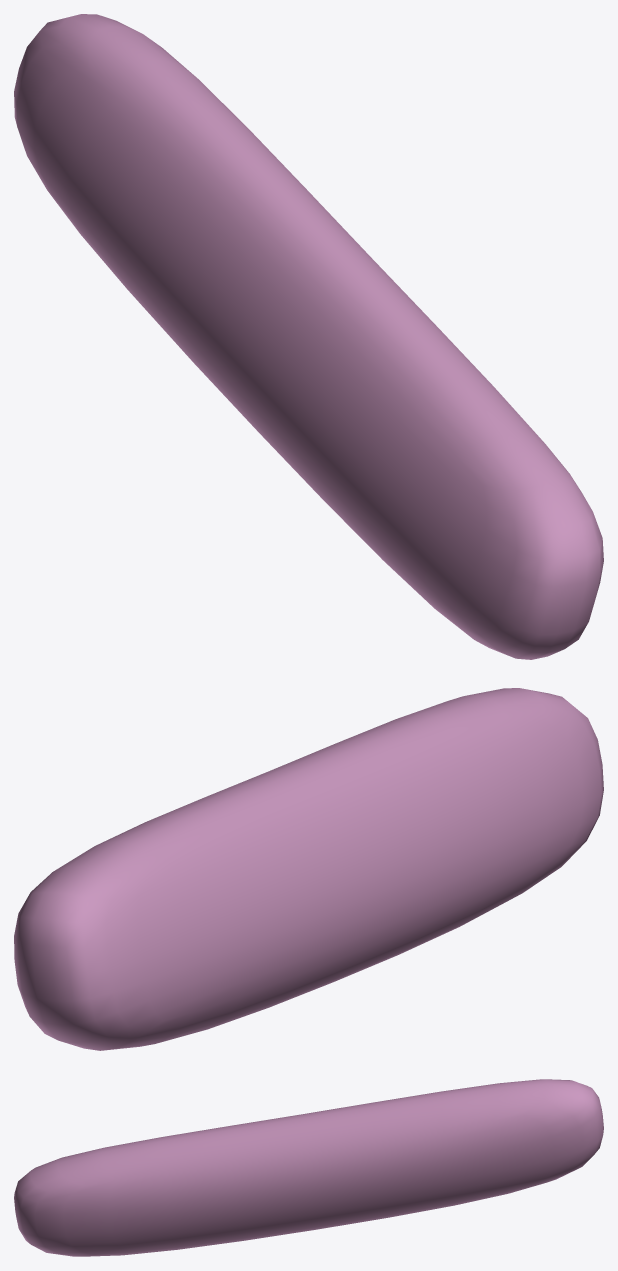
3 renders of one model, top to bottom at view 1: azimuth 30°, elevation 25°; view 2: azimuth 150°, elevation 25°; view 3: azimuth 270°, elevation 25°, orthographic. The views are drawn at different scales.
Visible parts, largest first — view 1: 左侧动眼神经核; view 2: 左侧动眼神经核; view 3: 左侧动眼神经核.
Part boxes in pixels (x1,y1,x2,y2): 左侧动眼神经核: (14, 14, 603, 659); 左侧动眼神经核: (14, 688, 603, 1050); 左侧动眼神经核: (14, 1079, 603, 1256).
Bounding box in the file's own units: 0.00196 × 0.00396 × 0.0122.
